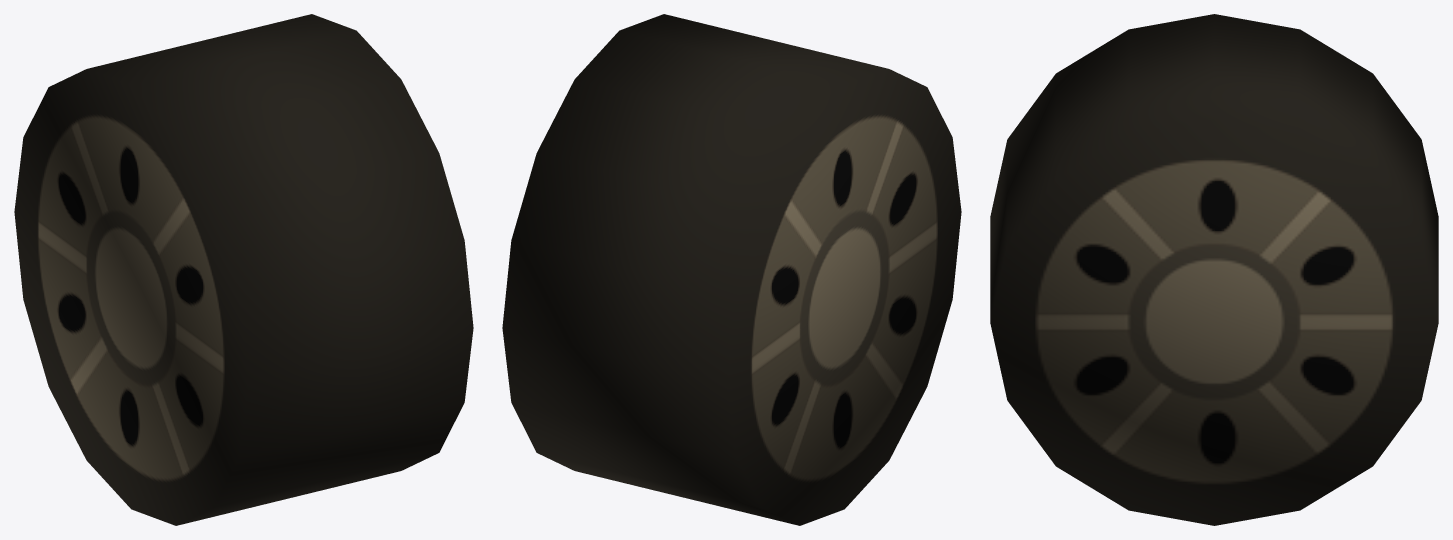
The model's file is Tank3_Big_Wheel.fbx.
3 views of the same model, side by side, from view 1: azimuth 30°, elevation 25°; view 2: azimuth 150°, elevation 25°; view 3: azimuth 270°, elevation 25° (orthographic). The views are drawn at different scales.
Parts seen in each view (by area): view 1: big_wheel; view 2: big_wheel; view 3: big_wheel.
Boxes of the visible parts, left/top/right/bottom form: big_wheel: left=14, top=14, right=473, bottom=525; big_wheel: left=502, top=14, right=961, bottom=525; big_wheel: left=990, top=14, right=1438, bottom=525.
Bounding box in the file's own units: 0.5632 × 1.01 × 1.01.
